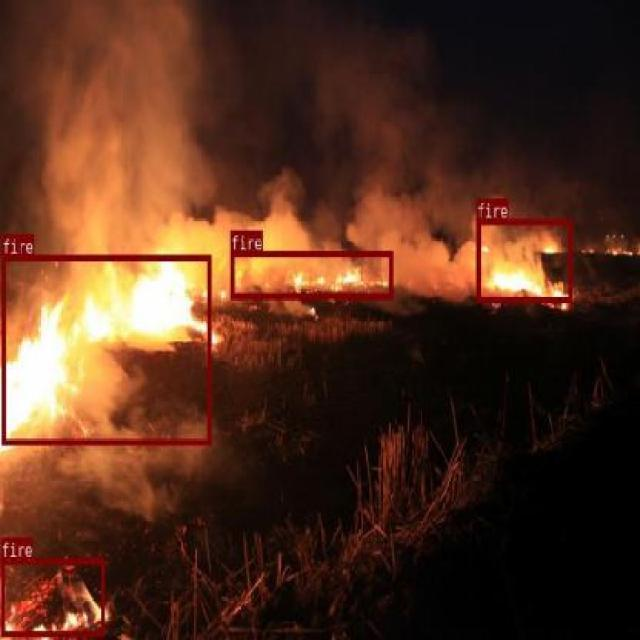Fire: (2, 254, 210, 443), (0, 556, 103, 636), (475, 218, 571, 302), (231, 250, 392, 298)
Smoke: (18, 12, 470, 235)
